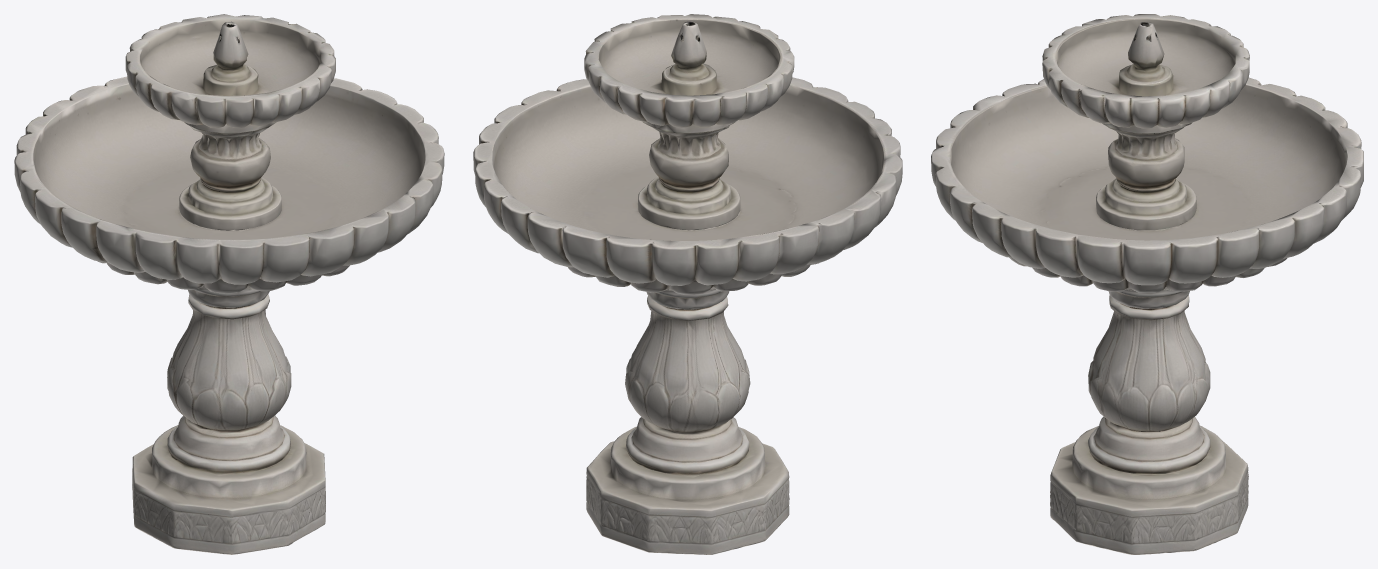
File: fonte_marmore-BkhzDGbl.glb
3 renders of one model, left to right at view 1: azimuth 30°, elevation 25°; view 2: azimuth 150°, elevation 25°; view 3: azimuth 270°, elevation 25°, orthographic.
Visible parts, largest first — view 1: tripo_node_64a5d8ae-a358-4d53-b994-917859d10784; view 2: tripo_node_64a5d8ae-a358-4d53-b994-917859d10784; view 3: tripo_node_64a5d8ae-a358-4d53-b994-917859d10784.
Part boxes in pixels (x1=…): tripo_node_64a5d8ae-a358-4d53-b994-917859d10784: x1=14, y1=14, x2=444, y2=554; tripo_node_64a5d8ae-a358-4d53-b994-917859d10784: x1=473, y1=14, x2=902, y2=554; tripo_node_64a5d8ae-a358-4d53-b994-917859d10784: x1=931, y1=14, x2=1363, y2=554.
Bounding box in the file's own units: 0.7894 × 0.9839 × 0.7893.
Materials: 1 (1 with a texture image).
